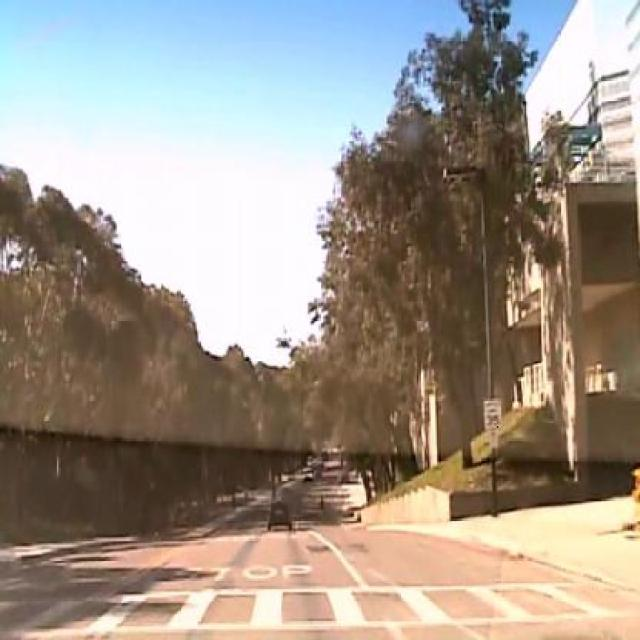speedLimit35: (483, 397, 502, 429)
